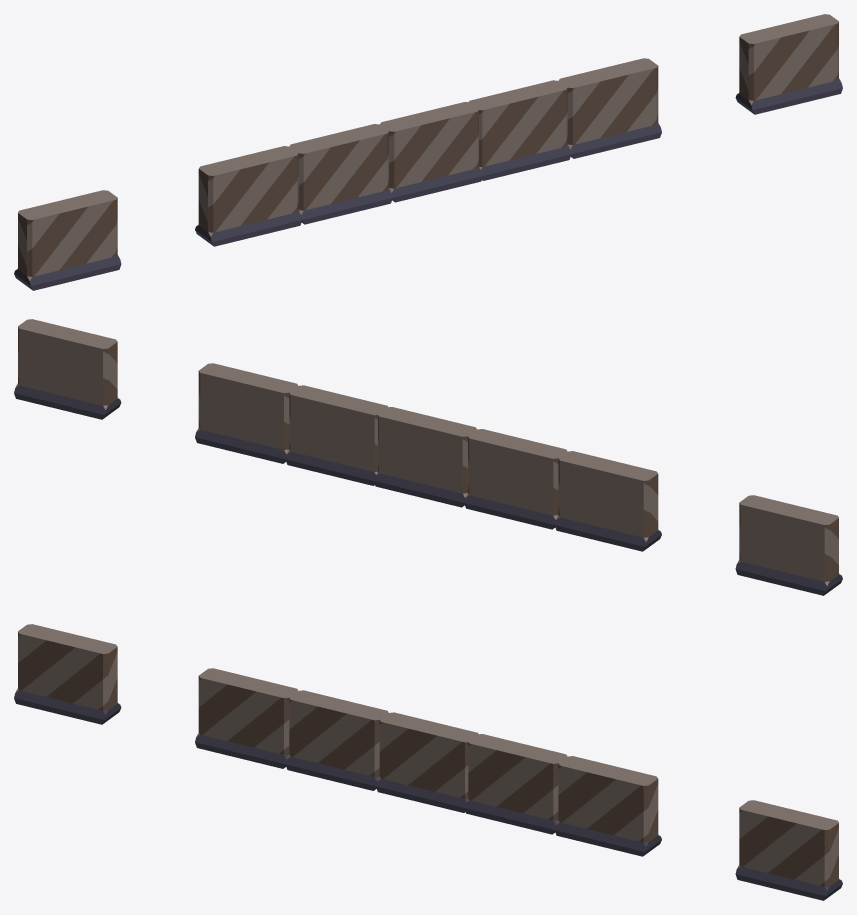
File: ChurchWall3.fbx
3 renders of one model, top to bottom at view 1: azimuth 30°, elevation 25°; view 2: azimuth 150°, elevation 25°; view 3: azimuth 330°, elevation 25°, orthographic.
Visible parts, largest first — view 1: Wall3.002; view 2: Wall3.002; view 3: Wall3.002.
Boxes of the visible parts, x1,y1,x2,y2 form: Wall3.002: (14, 14, 842, 290); Wall3.002: (14, 319, 842, 595); Wall3.002: (14, 624, 842, 900).
Size of the model in its own units: 35.9 by 3 by 1.32.
3 materials, 1 textured.
